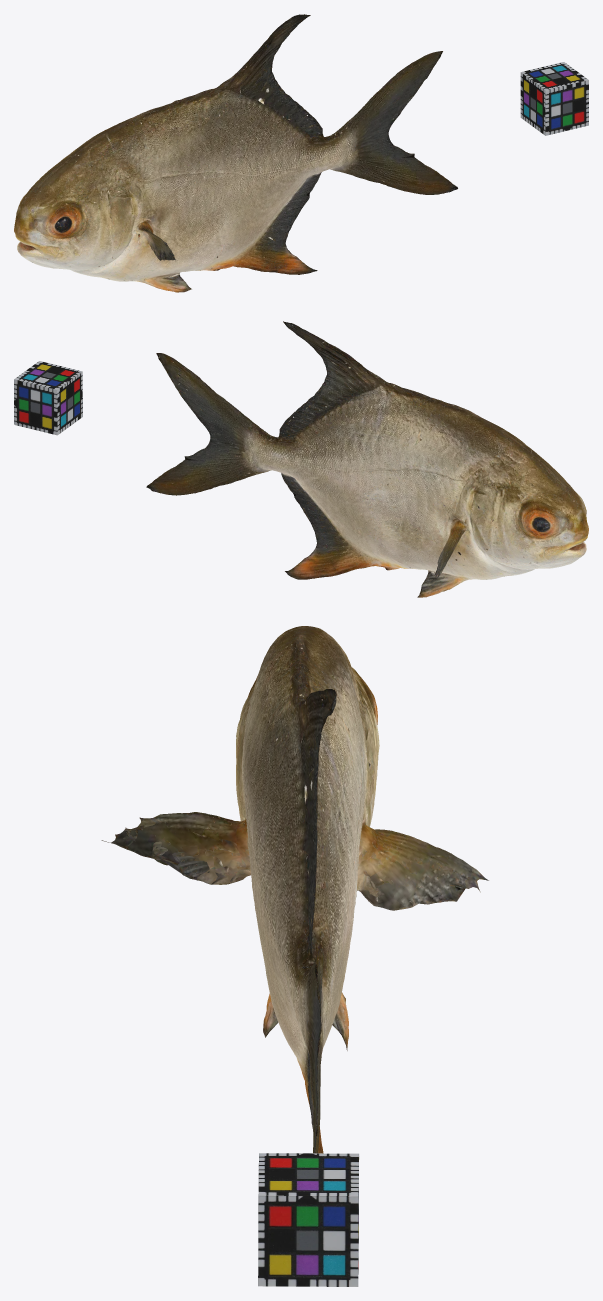
Rendered from scan_pompano.glb.
3 views of the same model, one above another, from view 1: azimuth 30°, elevation 25°; view 2: azimuth 150°, elevation 25°; view 3: azimuth 270°, elevation 25° (orthographic). The views are drawn at different scales.
Visible parts, largest first — view 1: Object_6, Object_4; view 2: Object_6, Object_4; view 3: Object_6, Object_4.
Part boxes in pixels (box(x1,y1,x2,y2)): Object_6: box(14, 14, 457, 292); Object_4: box(520, 62, 588, 135); Object_6: box(146, 321, 588, 597); Object_4: box(14, 361, 82, 435); Object_6: box(101, 626, 488, 1153); Object_4: box(258, 1153, 359, 1286).
Size of the model in its own units: 8.28 by 3.64 by 2.58.
2 materials, 2 textured.
